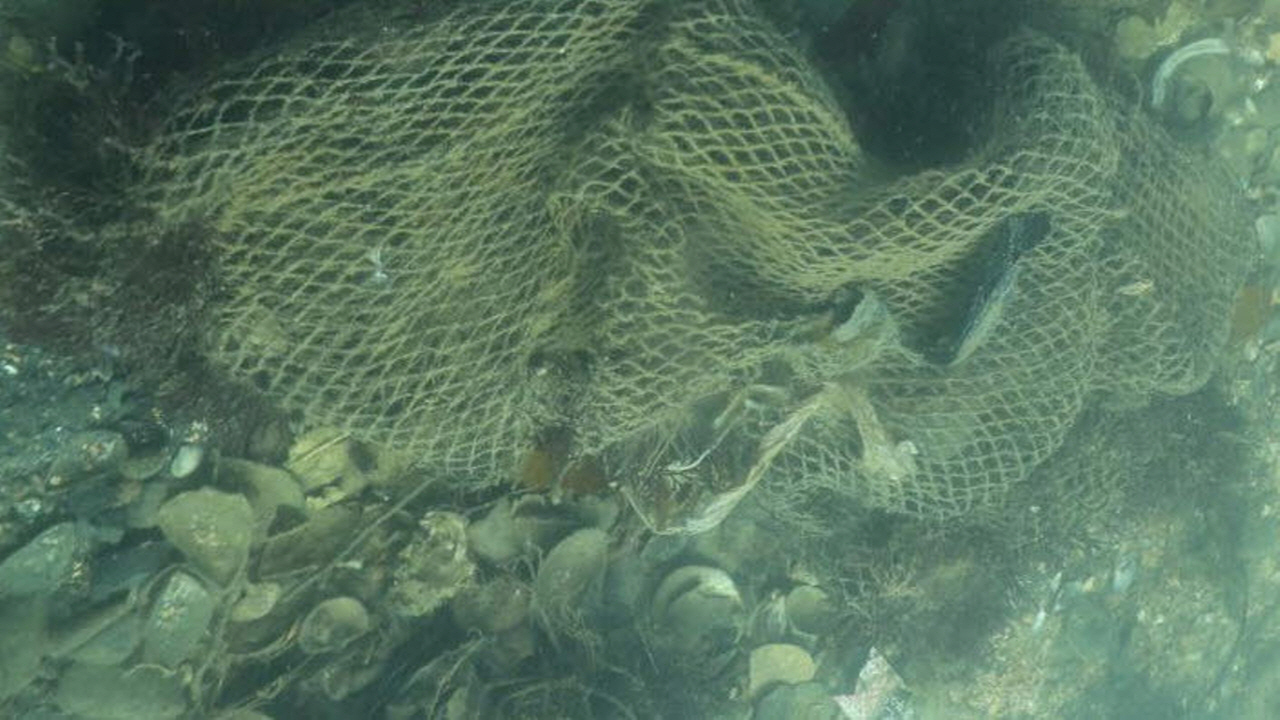fish net: (119, 0, 1264, 529)
